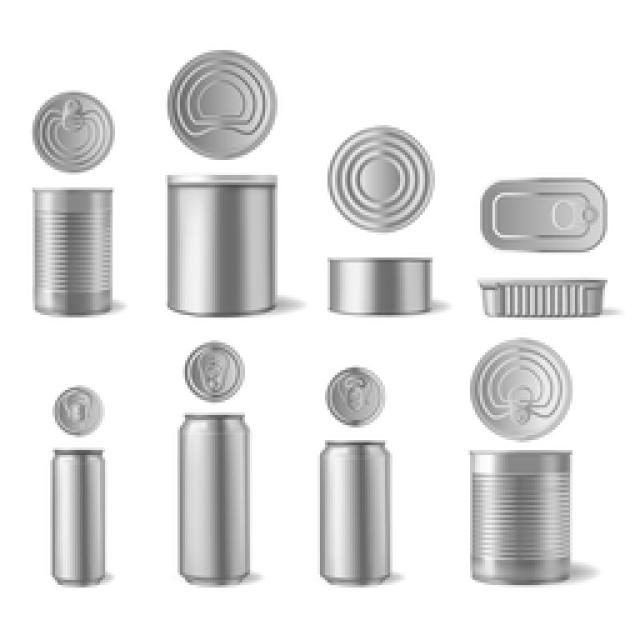alumunium: (168, 175, 275, 315), (470, 450, 568, 582), (180, 412, 248, 582), (168, 50, 275, 158), (328, 125, 432, 230), (470, 338, 570, 438), (320, 440, 388, 580), (35, 190, 110, 315), (482, 178, 605, 248), (52, 450, 102, 582), (32, 92, 112, 170), (330, 258, 430, 310), (482, 280, 602, 315), (185, 340, 242, 400), (325, 368, 382, 425), (52, 385, 100, 435)
